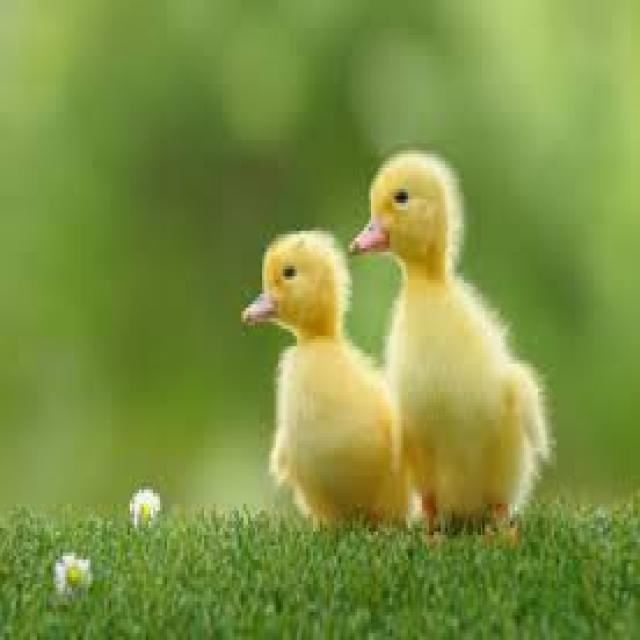Duck: (350, 146, 558, 534), (226, 218, 412, 538)
